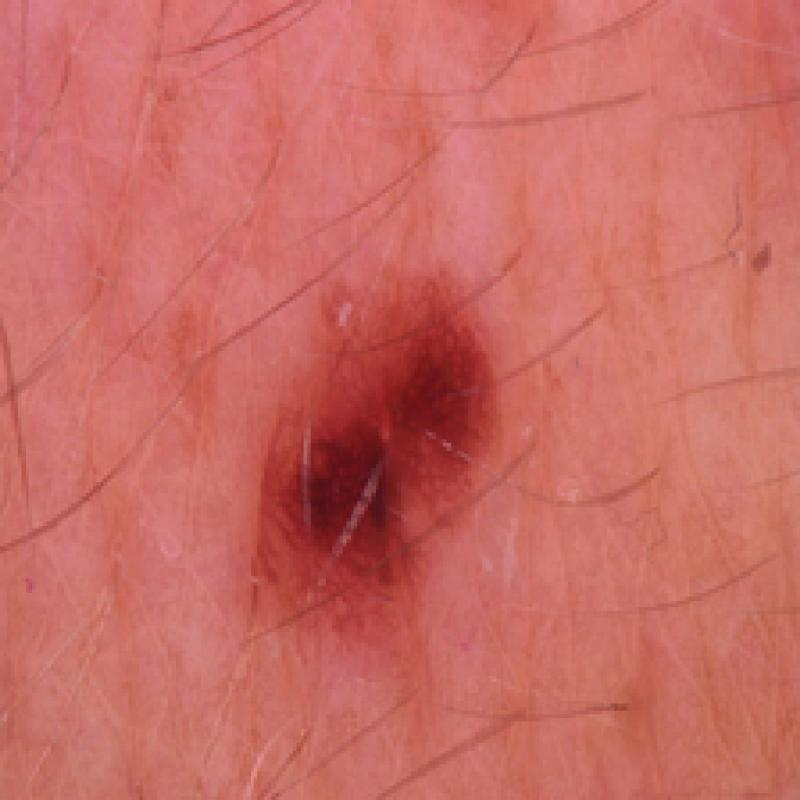benign: (221, 242, 542, 678)
